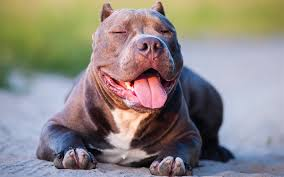Perro Pitbull: (64, 1, 212, 177)
